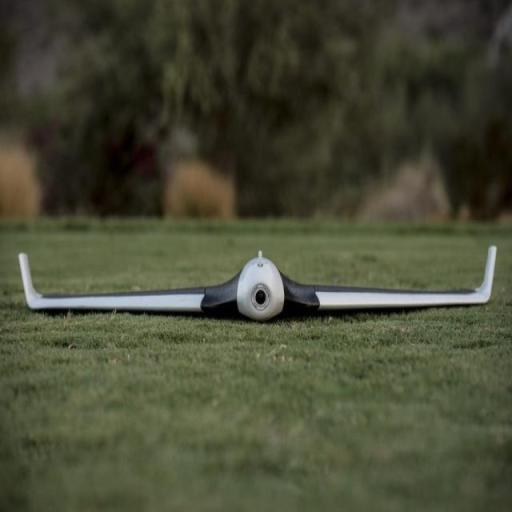uav: (12, 242, 502, 323)
